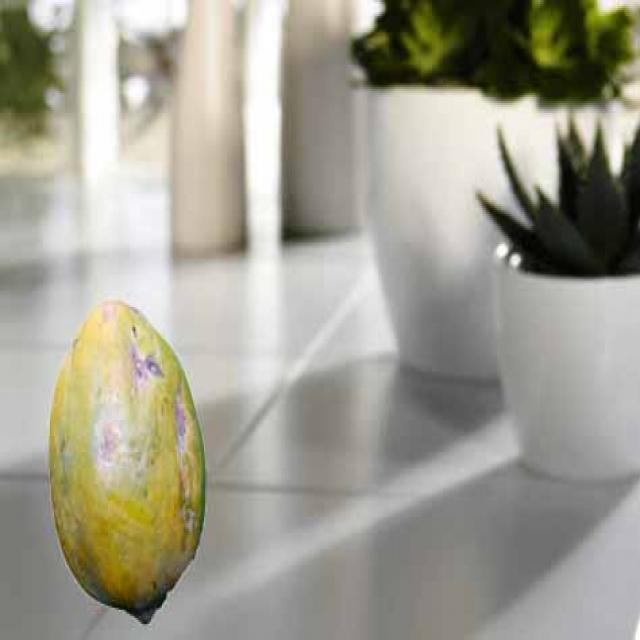Pepaya rippen: (42, 297, 206, 634)
